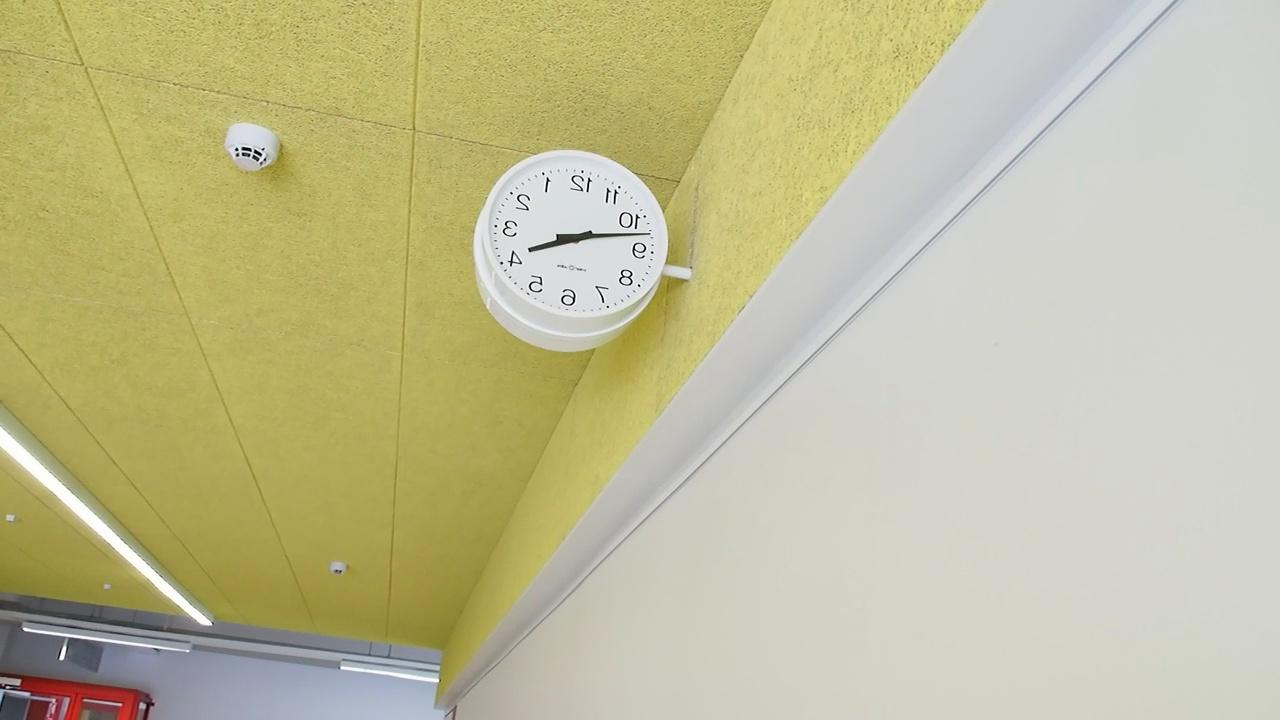clock: (470, 144, 672, 351)
